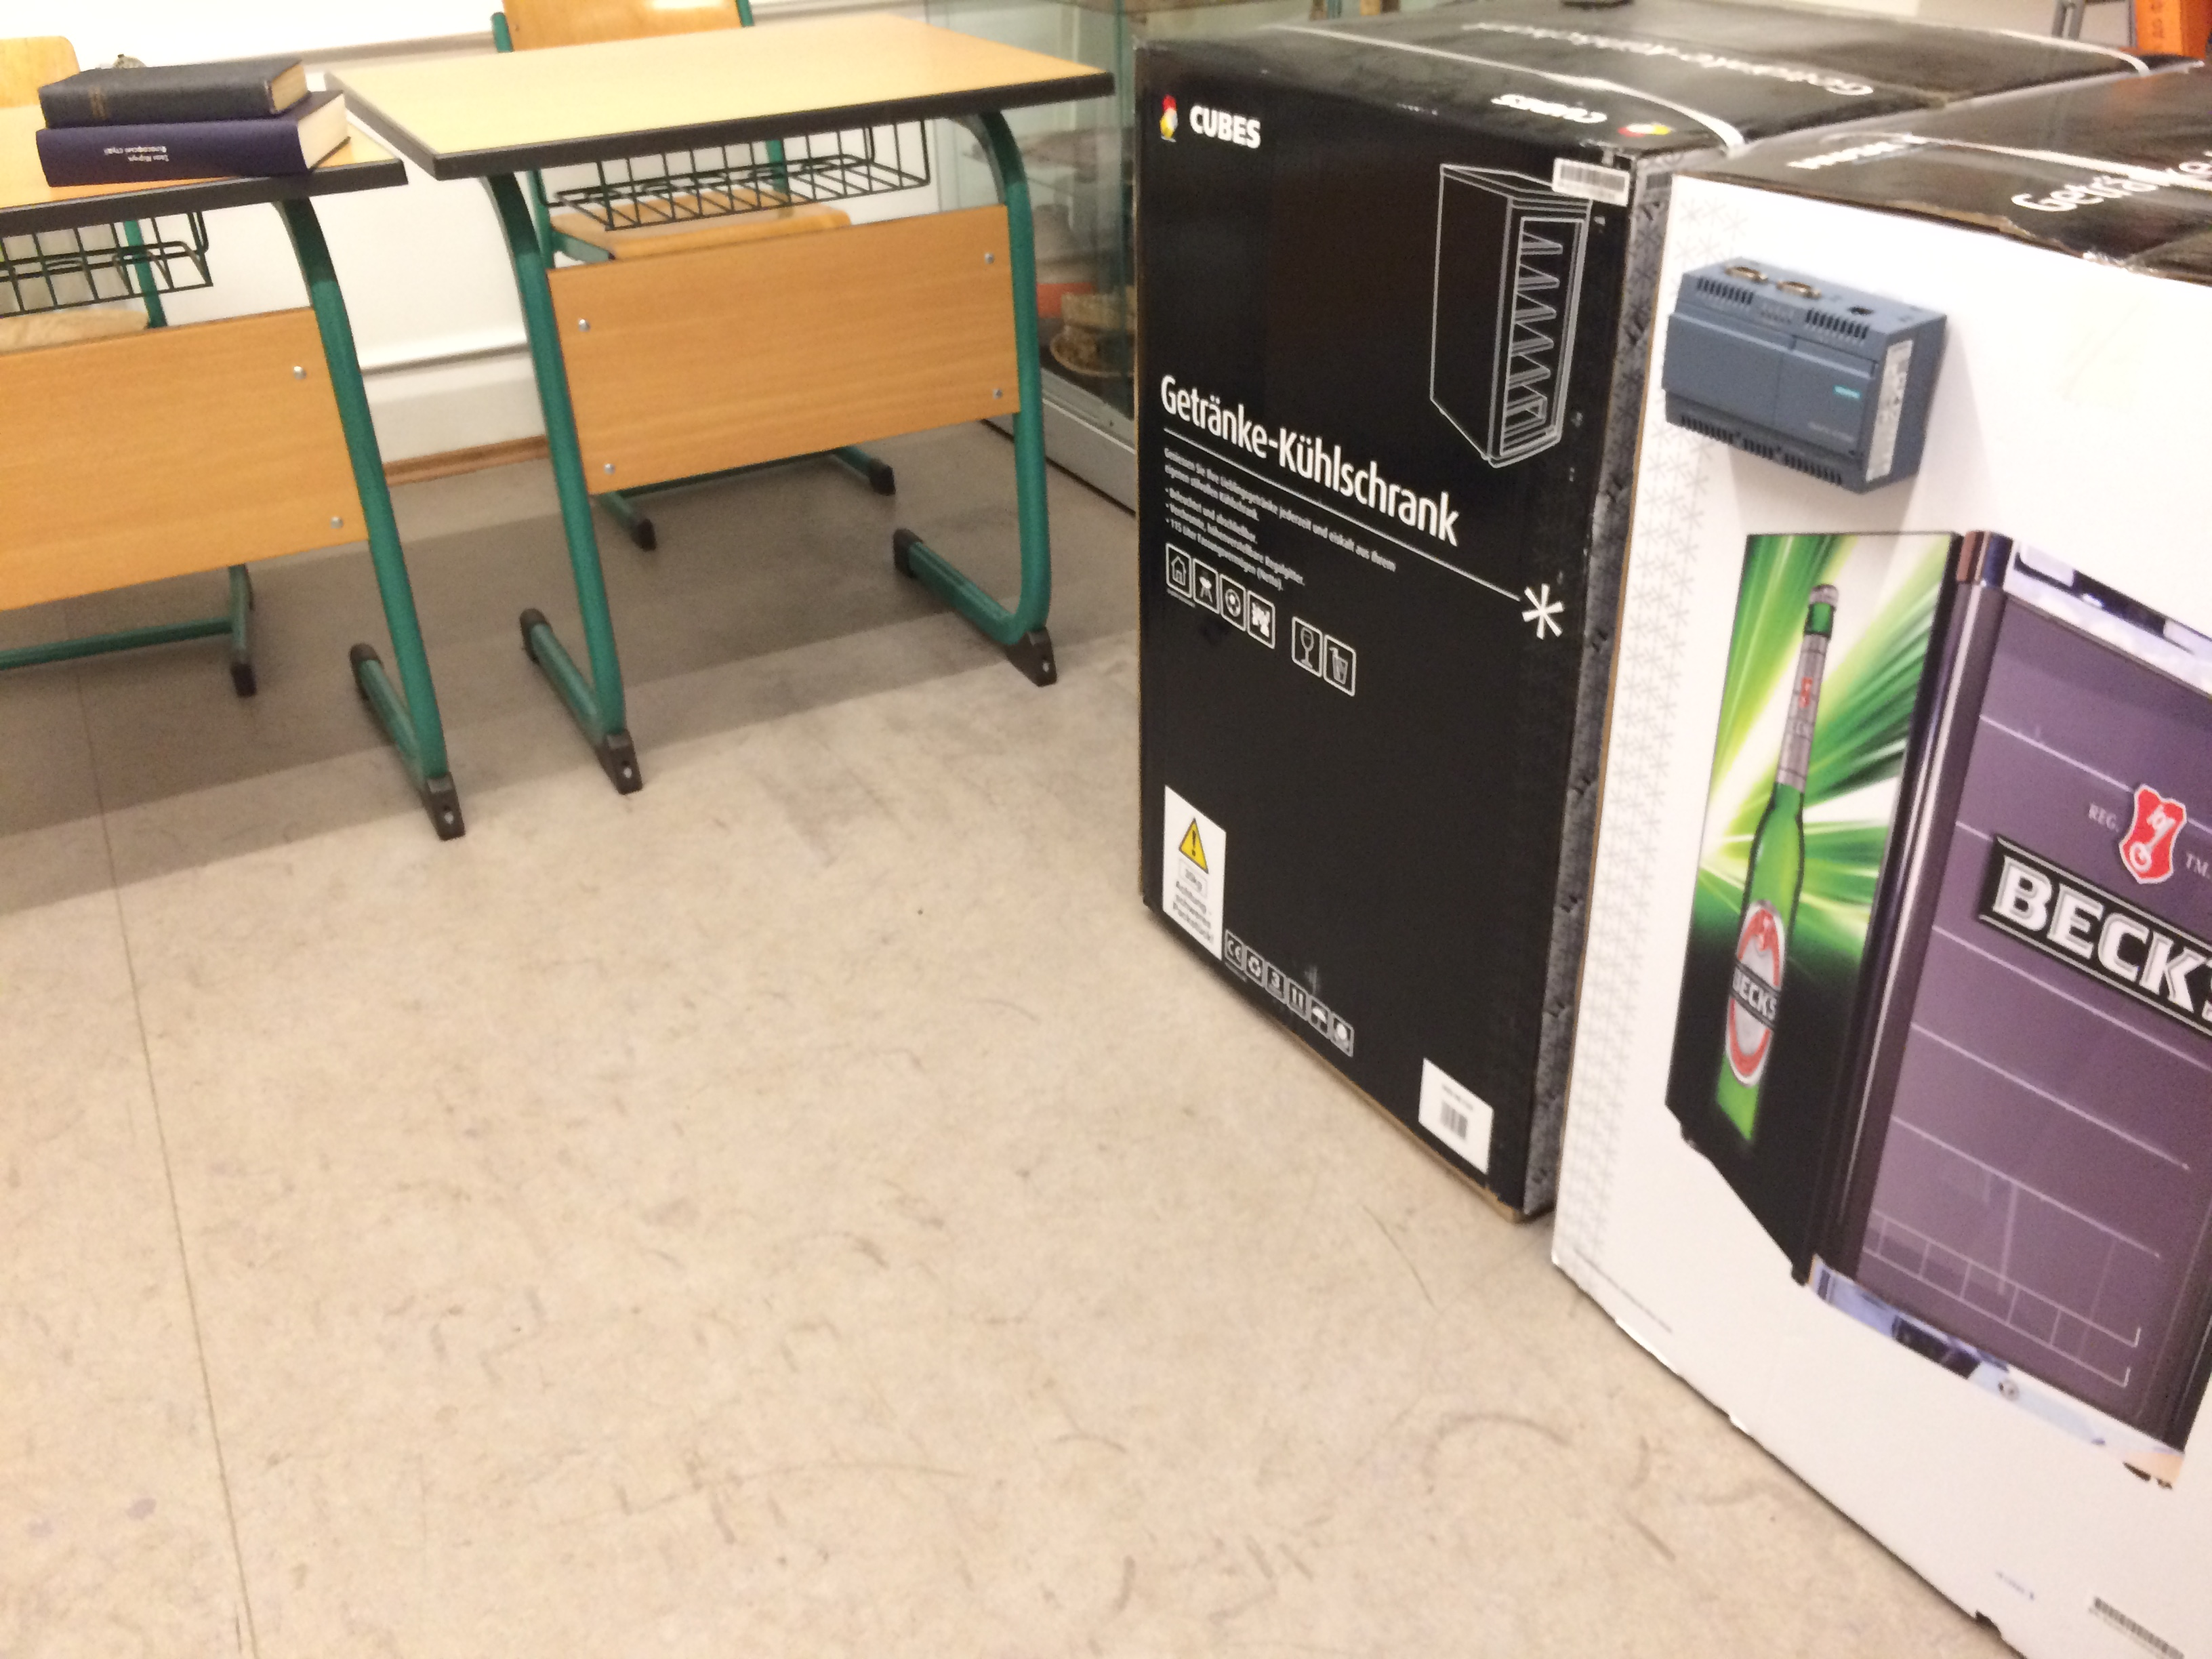iot2000: (1656, 254, 1951, 498)
